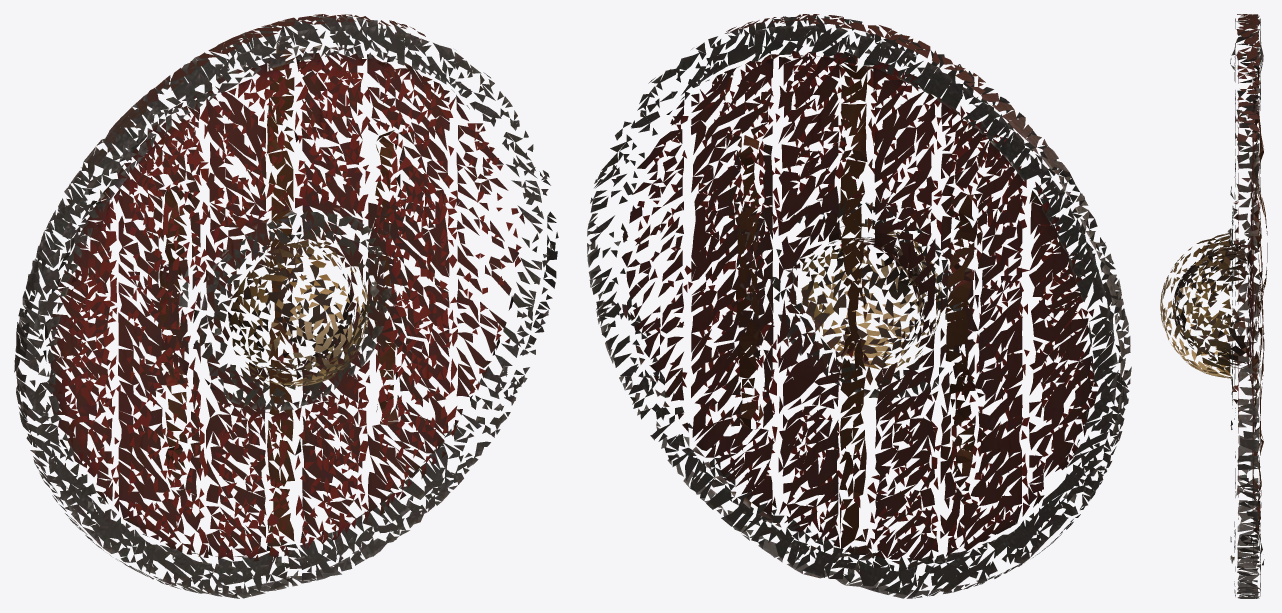
Rendered from b_round_shield.glb.
3 views of the same model, side by side, from view 1: azimuth 30°, elevation 25°; view 2: azimuth 150°, elevation 25°; view 3: azimuth 270°, elevation 25° (orthographic). The views are drawn at different scales.
Visible parts, largest first — view 1: shape_clean_textured; view 2: shape_clean_textured; view 3: shape_clean_textured.
Part boxes in pixels (x1=…): shape_clean_textured: x1=14, y1=14, x2=558, y2=598; shape_clean_textured: x1=587, y1=14, x2=1131, y2=598; shape_clean_textured: x1=1160, y1=14, x2=1267, y2=598.
Size of the model in its own units: 2 by 2 by 0.3659.
Materials: 1 (1 with a texture image).
